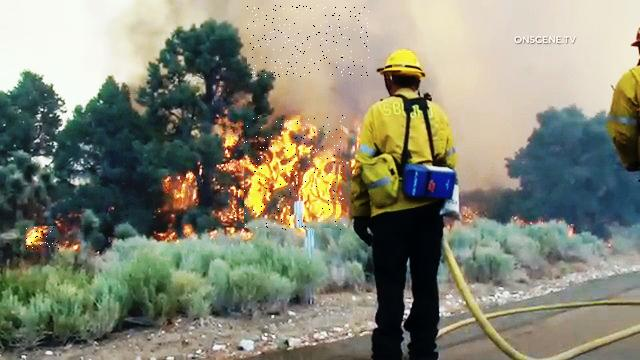fire: (245, 116, 346, 231), (26, 227, 59, 252)
smoke: (248, 5, 370, 77)
